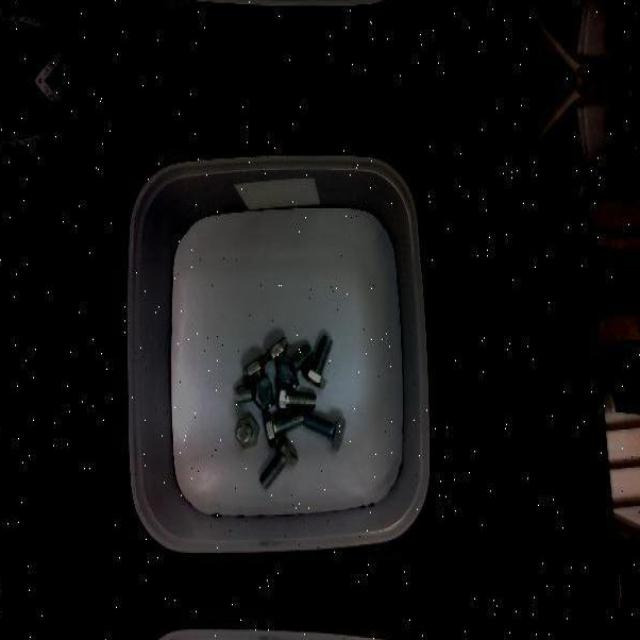screw: (258, 435, 299, 488), (303, 334, 334, 389), (304, 412, 346, 452), (234, 373, 274, 409), (264, 412, 305, 446), (276, 383, 316, 414), (235, 415, 259, 447)
